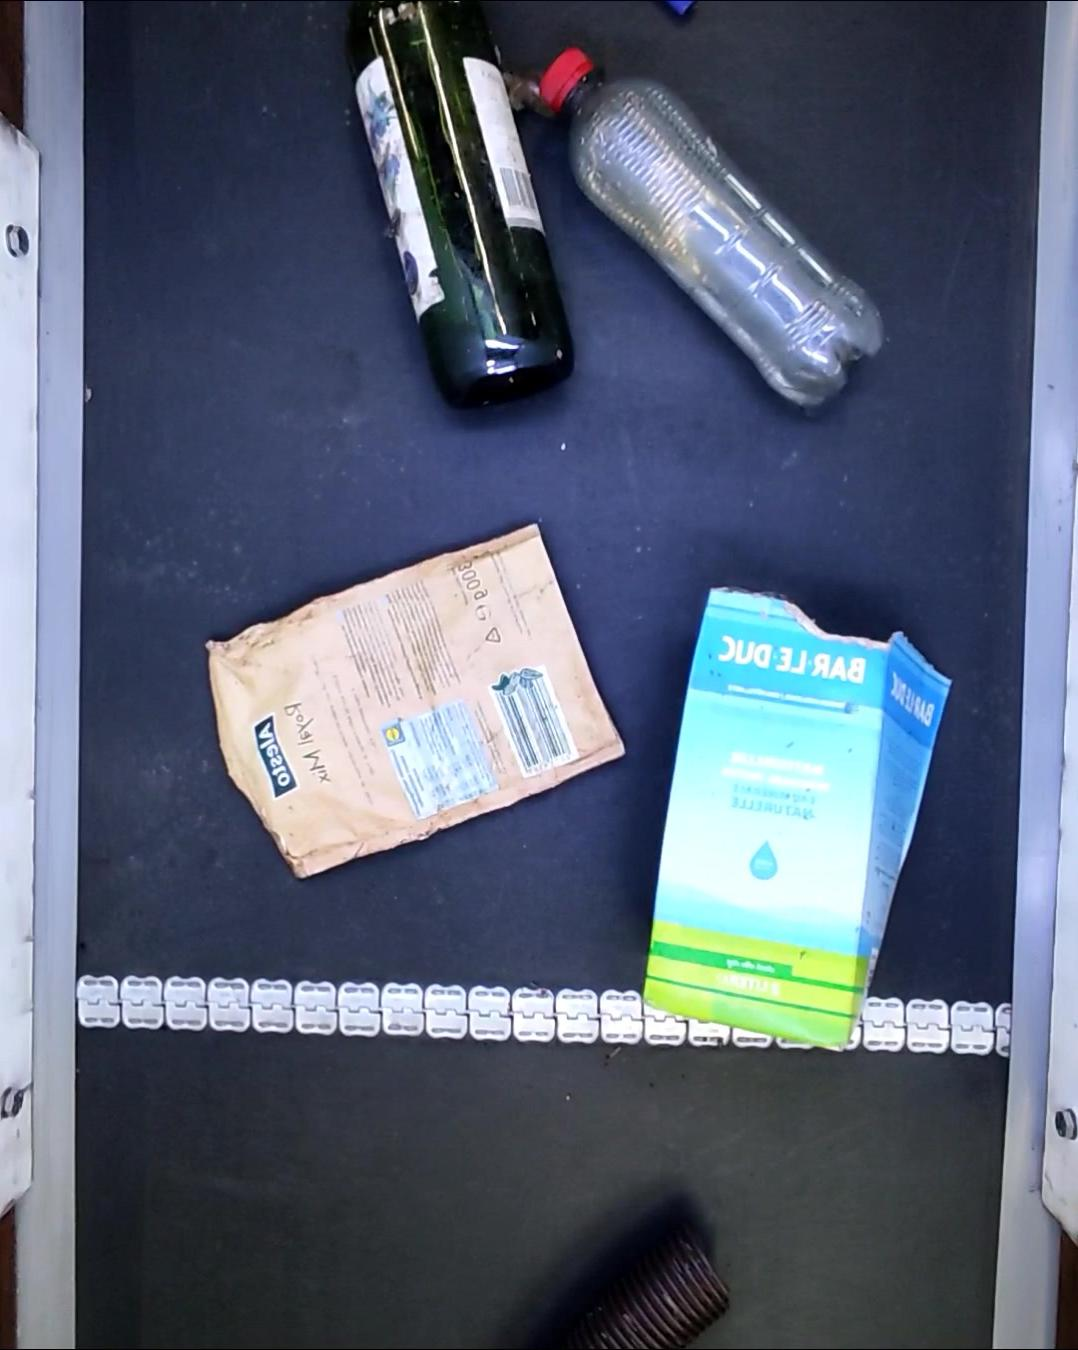Drankflessen - 1-2 liter: (530, 45, 883, 418)
Voedselverpakkingen: (197, 524, 627, 886)
